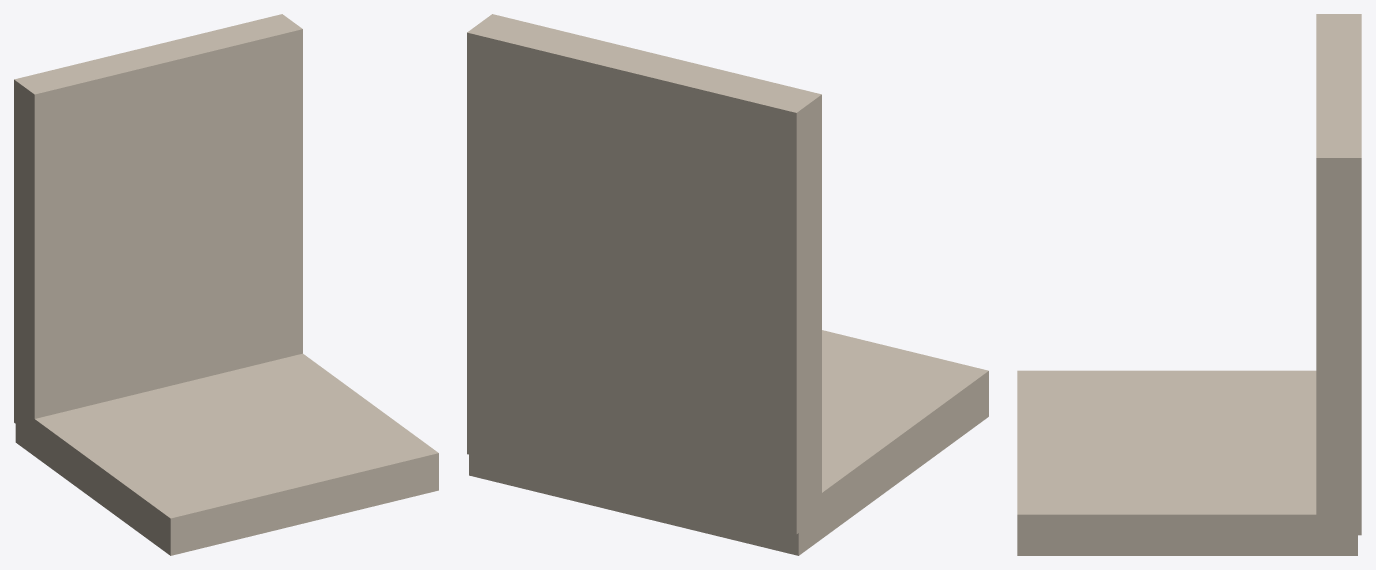
File: chair.glb
3 renders of one model, left to right at view 1: azimuth 30°, elevation 25°; view 2: azimuth 150°, elevation 25°; view 3: azimuth 270°, elevation 25°, orthographic. The views are drawn at different scales.
Visible parts, largest first — view 1: chair; view 2: chair; view 3: chair.
Part boxes in pixels (x1=…): chair: x1=14, y1=14, x2=438, y2=555; chair: x1=467, y1=14, x2=988, y2=555; chair: x1=1017, y1=14, x2=1361, y2=555.
Size of the model in its own units: 0.9 by 1.16 by 0.91.
